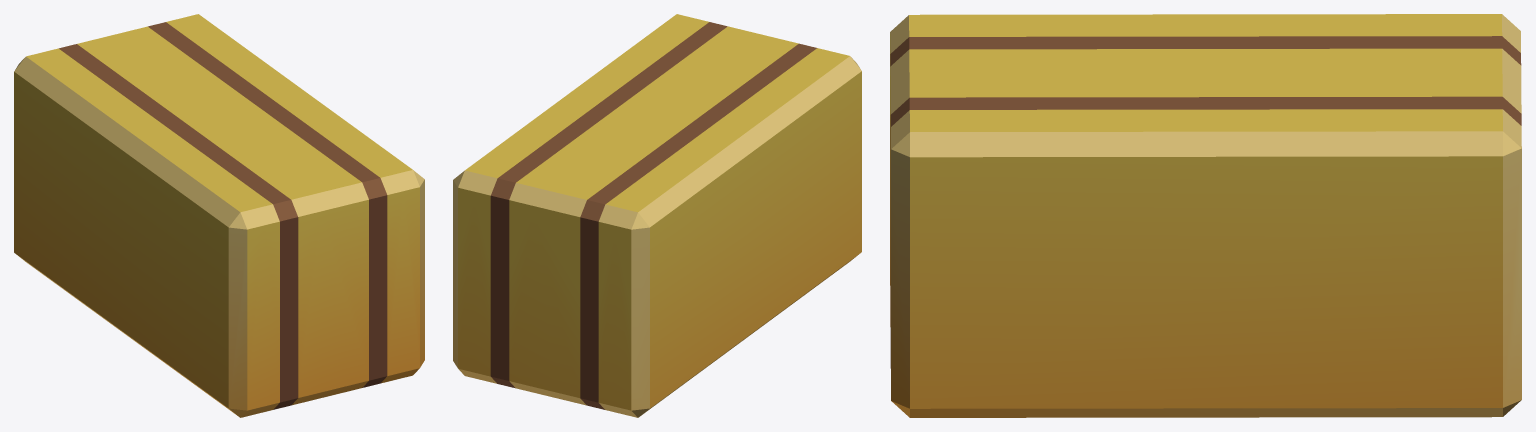
The model's file is farmpack2023haybale01.fbx.
3 renders of one model, left to right at view 1: azimuth 30°, elevation 25°; view 2: azimuth 150°, elevation 25°; view 3: azimuth 270°, elevation 25°, orthographic. The views are drawn at different scales.
Visible parts, largest first — view 1: Cube.001; view 2: Cube.001; view 3: Cube.001.
Part boxes in pixels (<box>): Cube.001: <box>14,14,424,417</box>; Cube.001: <box>453,14,861,417</box>; Cube.001: <box>890,14,1521,417</box>.
Bounding box in the file's own units: 2.13 × 1.07 × 1.06.
